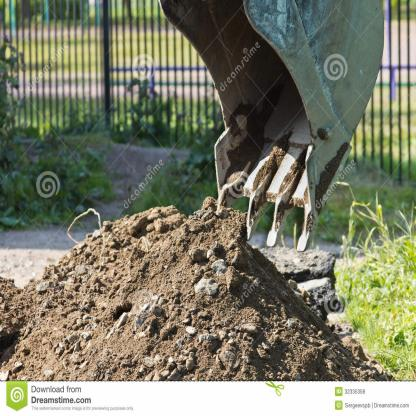excavator: (158, 2, 397, 246)
